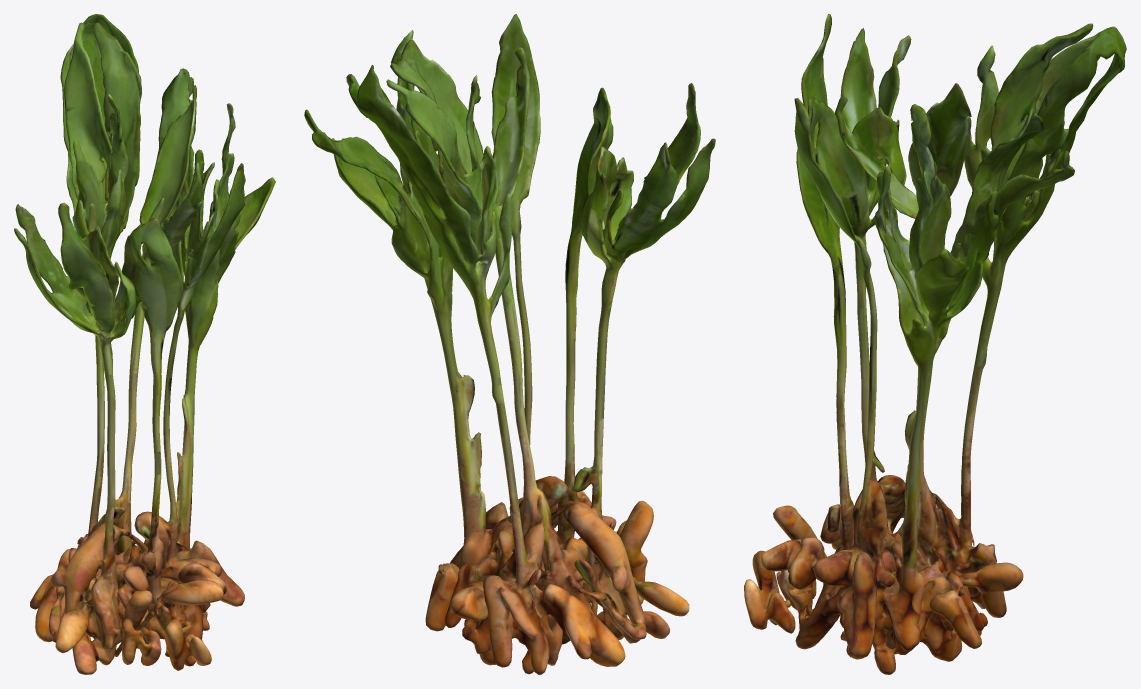
Rendered from Turmeric_Roots.glb.
3 renders of one model, left to right at view 1: azimuth 30°, elevation 25°; view 2: azimuth 150°, elevation 25°; view 3: azimuth 270°, elevation 25°, orthographic. The views are drawn at different scales.
Size of the model in its own units: 1.11 by 2 by 1.07.
1 material, 1 textured.
